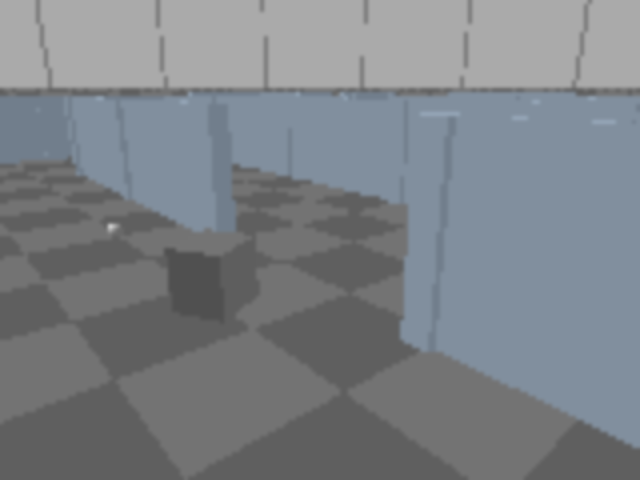obstacle: (165, 229, 259, 323)
puck: (105, 222, 126, 239)
